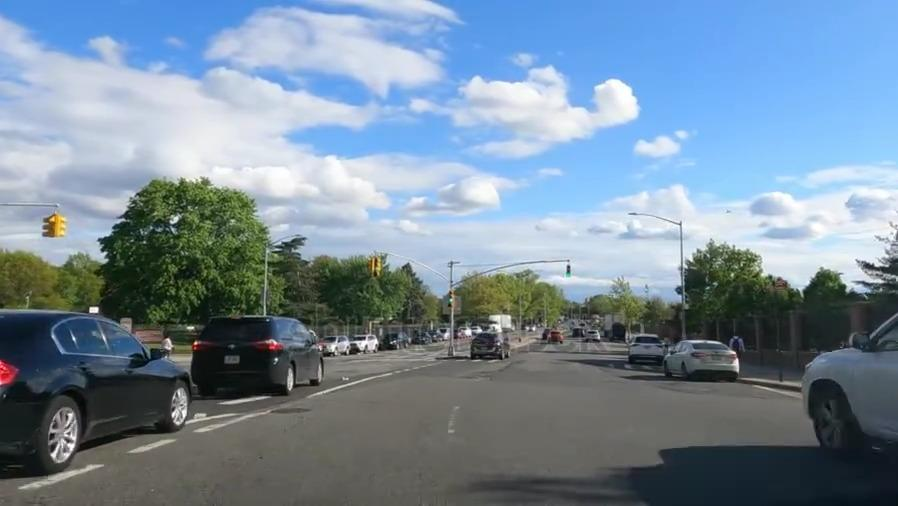car: (0, 303, 196, 462), (797, 328, 898, 463), (189, 313, 331, 395), (667, 335, 739, 388), (473, 331, 513, 361), (628, 332, 666, 358), (320, 333, 350, 356), (381, 332, 411, 351), (351, 335, 379, 354), (413, 332, 429, 345), (548, 331, 560, 344), (430, 329, 441, 343), (586, 330, 600, 341), (572, 327, 584, 338), (541, 328, 550, 338)
person: (729, 331, 746, 357), (161, 331, 175, 360)
pothole: (265, 401, 313, 420)
traffic light: (40, 210, 69, 240), (441, 287, 460, 315), (560, 259, 578, 284), (369, 254, 383, 279)
wheel: (30, 391, 86, 463), (807, 382, 851, 451), (156, 377, 194, 430)
